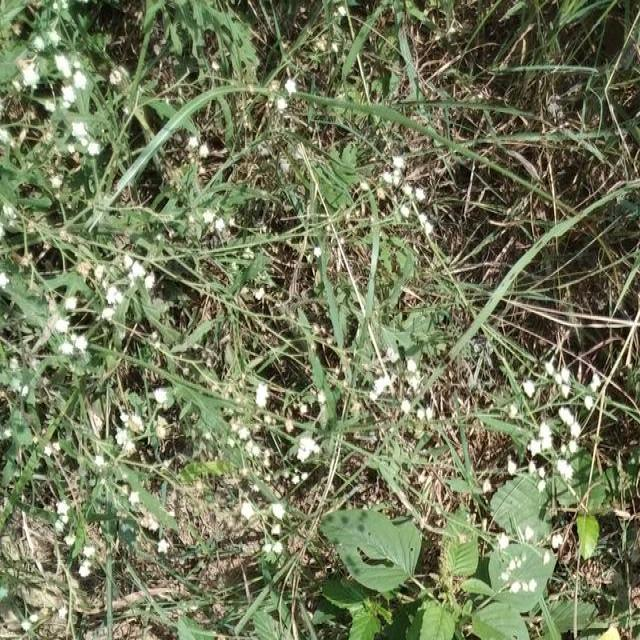weed: (169, 377, 346, 567), (326, 513, 544, 640), (23, 52, 125, 182), (519, 367, 595, 497), (369, 146, 447, 245)
